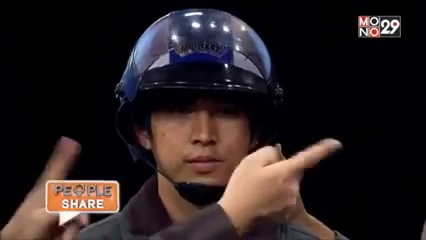helmet: (107, 9, 299, 136)
